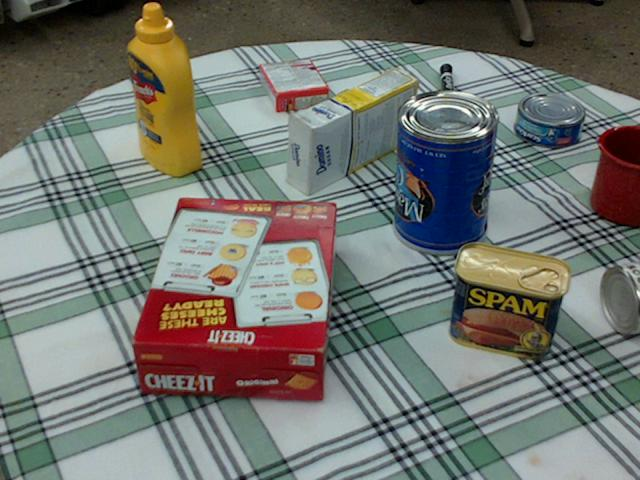cracker_box: (131, 200, 335, 399)
gelatin_box: (259, 59, 328, 111)
large_marker: (440, 63, 455, 114)
master_chef_can: (391, 89, 501, 253)
mug: (590, 126, 639, 226)
mustard_bottle: (127, 3, 199, 174)
potted_meat_can: (449, 242, 569, 357)
sugar_box: (287, 67, 417, 195)
tomato_soup_can: (602, 260, 639, 332)
tuna_fish_can: (515, 93, 585, 147)
